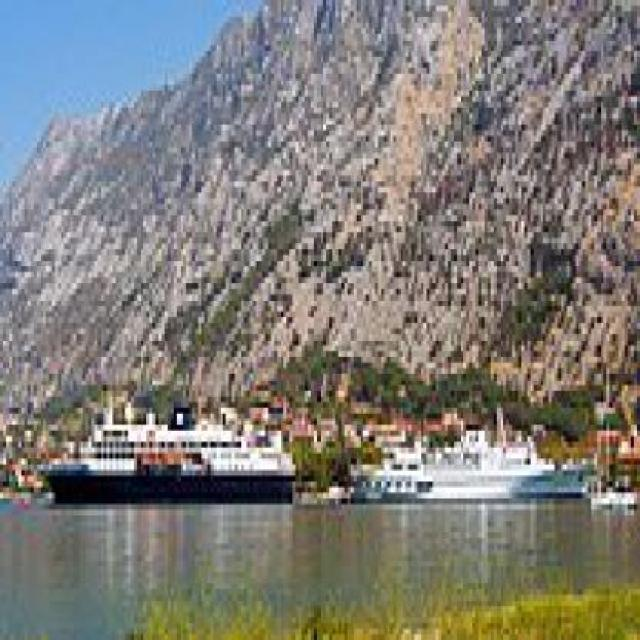cruise: (34, 380, 313, 522)
